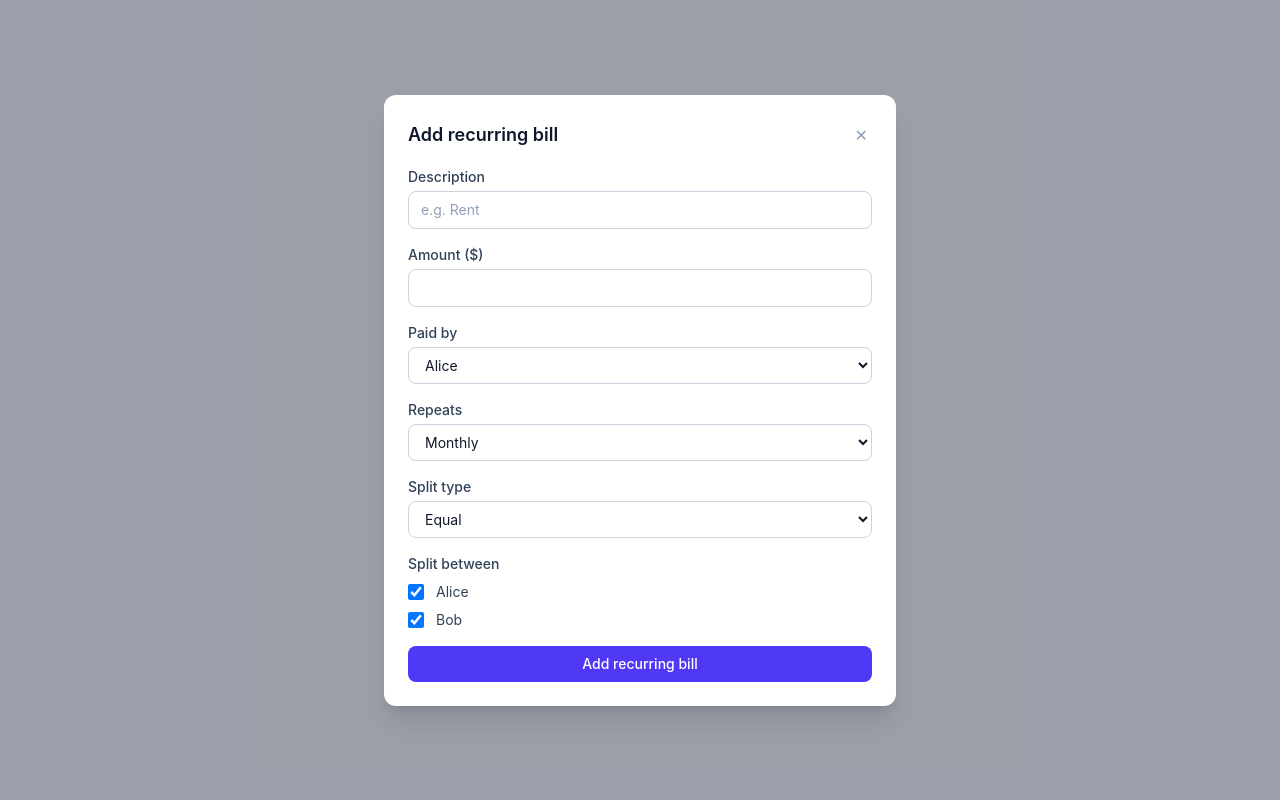
Test: AddRecurringModal › requires a description and a positive amount
The image size is (1280, 800).
Click the button "Add recurring bill".
click(640, 664)  # box [408,646,872,682]
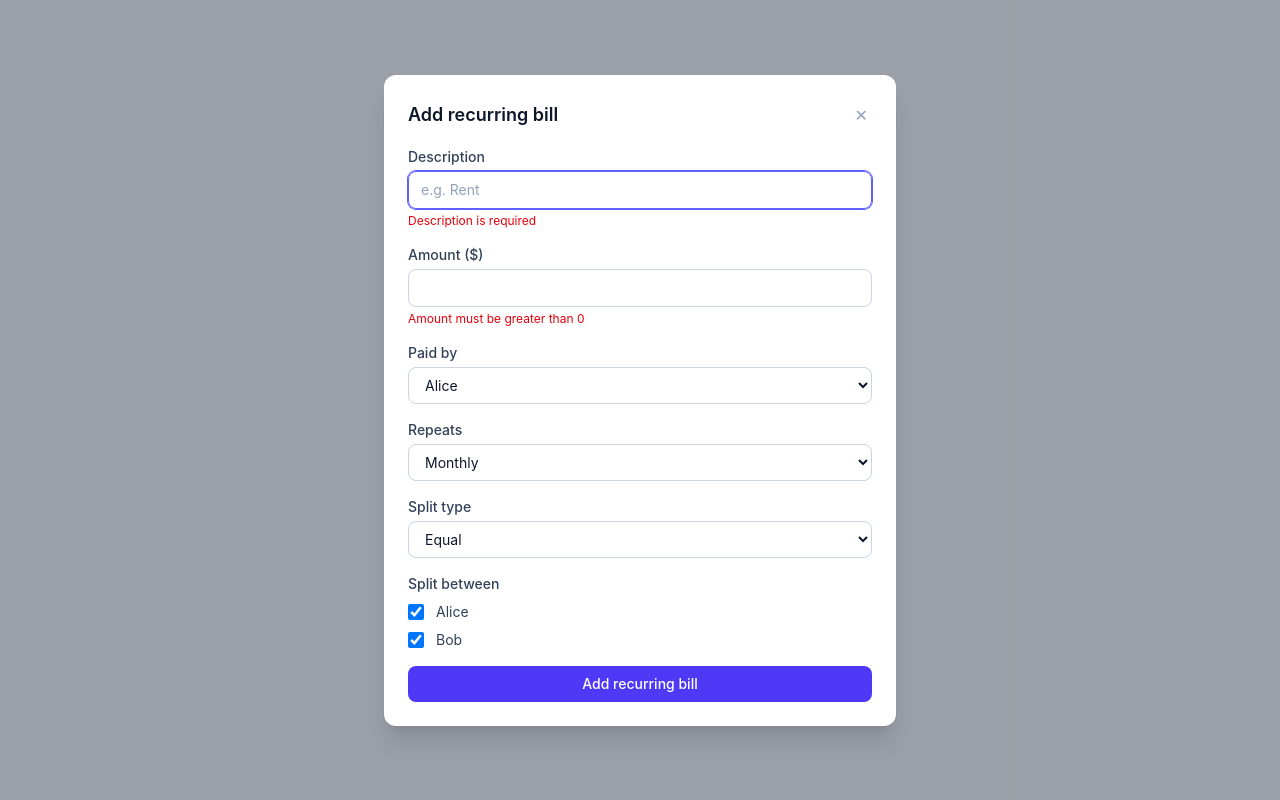
Check: the text "Description is required" is shown, box [408,212,536,228]
Check: the text "Amount must be greater than 0" is shown, box [408,310,584,326]
